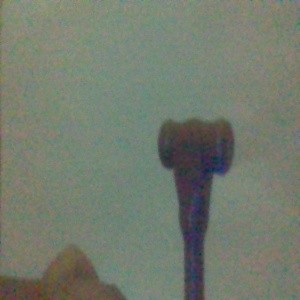palu: (156, 115, 235, 300)
